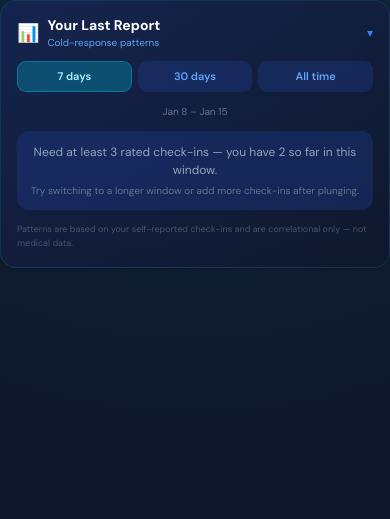
Test: DiscoveryReportCard — switching periods updates rendered insights (cross-month) › switching back from 30-day to 7-day tab reverts to the insufficient-data message
# Switch to 30 days — shows sweet spot for cross-month data
Click the button "30 days" at (195, 76), box x1=138 y1=61 x2=252 y2=92
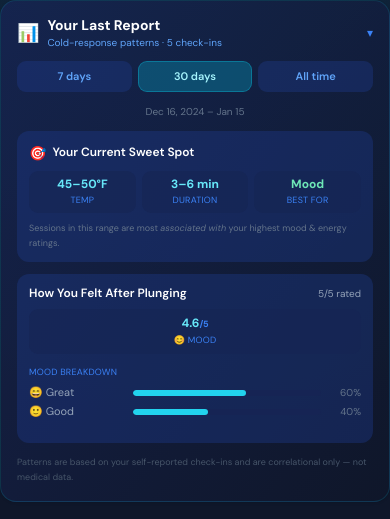
Expected: the text "Your Current Sweet Spot" is shown, x1=52 y1=145 x2=194 y2=160
# Switch back to 7 days — only 2 recent sessions, back to insufficient message
Click the button "7 days" at (74, 76), box x1=17 y1=61 x2=132 y2=92
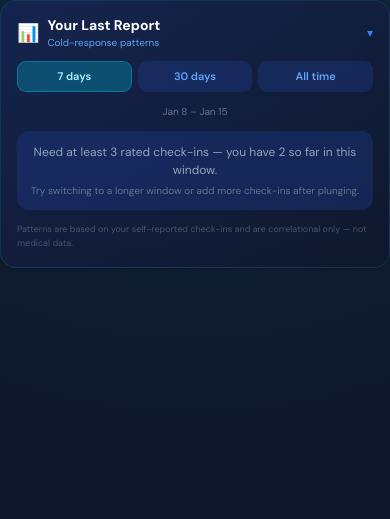
Expected: the text "Need at least 3 rated check-ins" is shown, x1=34 y1=144 x2=356 y2=178
Expected: the text "Your Current Sweet Spot" is gone
